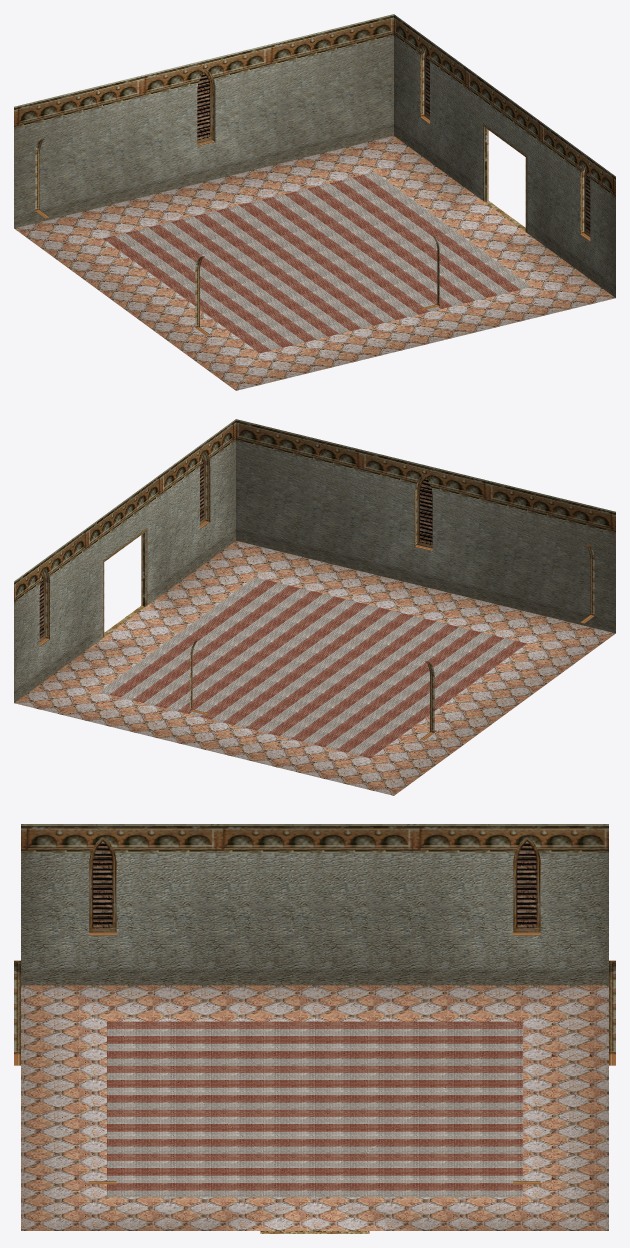
File: M5Z1_VillageInt_04.glb
3 views of the same model, one above another, from view 1: azimuth 30°, elevation 25°; view 2: azimuth 150°, elevation 25°; view 3: azimuth 270°, elevation 25° (orthographic). The views are drawn at different scales.
Parts seen in each view (by area): view 1: M5Z1_VILLAGEINT_04; view 2: M5Z1_VILLAGEINT_04; view 3: M5Z1_VILLAGEINT_04.
Boxes of the visible parts, x1,y1,x2,y2 form: M5Z1_VILLAGEINT_04: (14,14,615,390); M5Z1_VILLAGEINT_04: (14,419,615,795); M5Z1_VILLAGEINT_04: (14,824,615,1233).
Bounding box in the file's own units: 10.88 × 3.25 × 11.
Materials: 8 (8 with a texture image).
